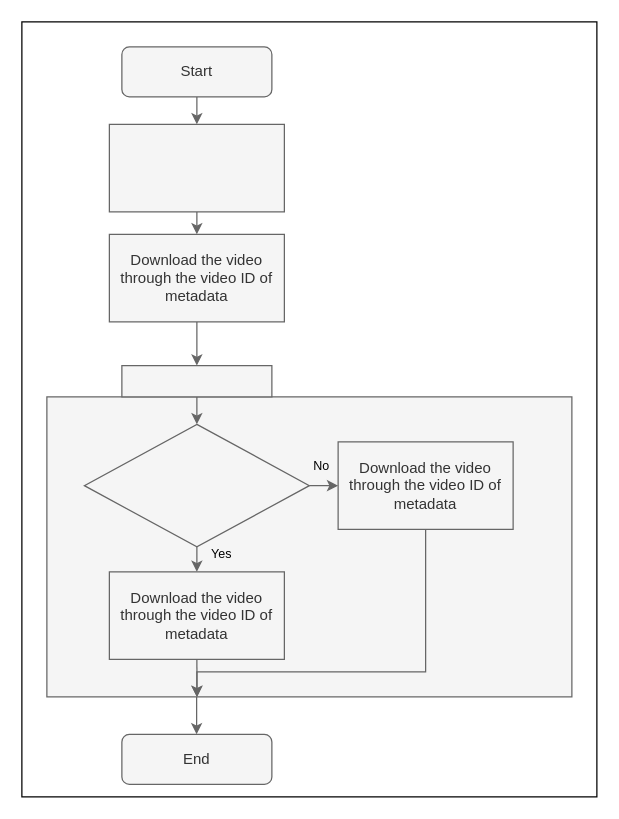
This 619x819 diagram has some shape labels left out. Here are the shapes that lost their labels. From the top down, the box of each, then its label:
(108, 123, 284, 212): Download metadata via MR.HiSum.
(121, 364, 272, 397): For each video
(83, 423, 309, 547): Is there a 'macroMarkersListEntity' in HTML in the video?
